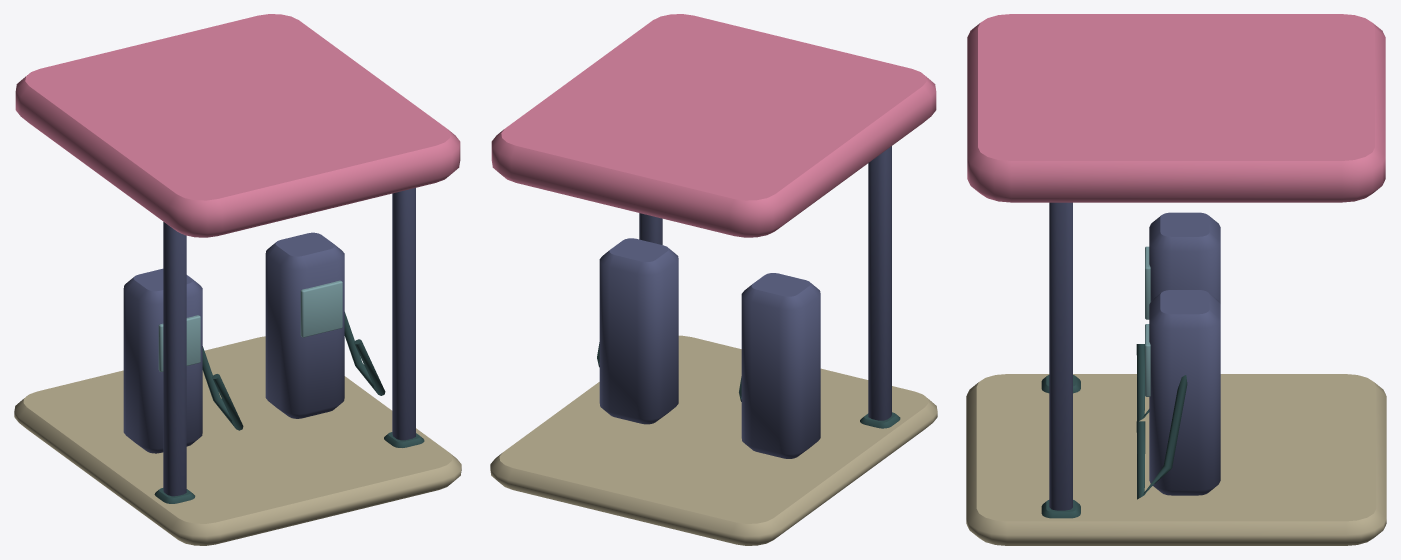
The model's file is japan_charge_2.glb.
The picture shows the model from 3 angles, left to right: view 1: azimuth 30°, elevation 25°; view 2: azimuth 150°, elevation 25°; view 3: azimuth 270°, elevation 25°; orthographic projection. The views are drawn at different scales.
Visible parts, largest first — view 1: JapanCharge2; view 2: JapanCharge2; view 3: JapanCharge2.
Part boxes in pixels (x1,y1,x2,y2): JapanCharge2: (14, 14, 461, 545); JapanCharge2: (490, 14, 937, 545); JapanCharge2: (966, 14, 1386, 545).
Bounding box in the file's own units: 2.18 × 2.51 × 2.48.
